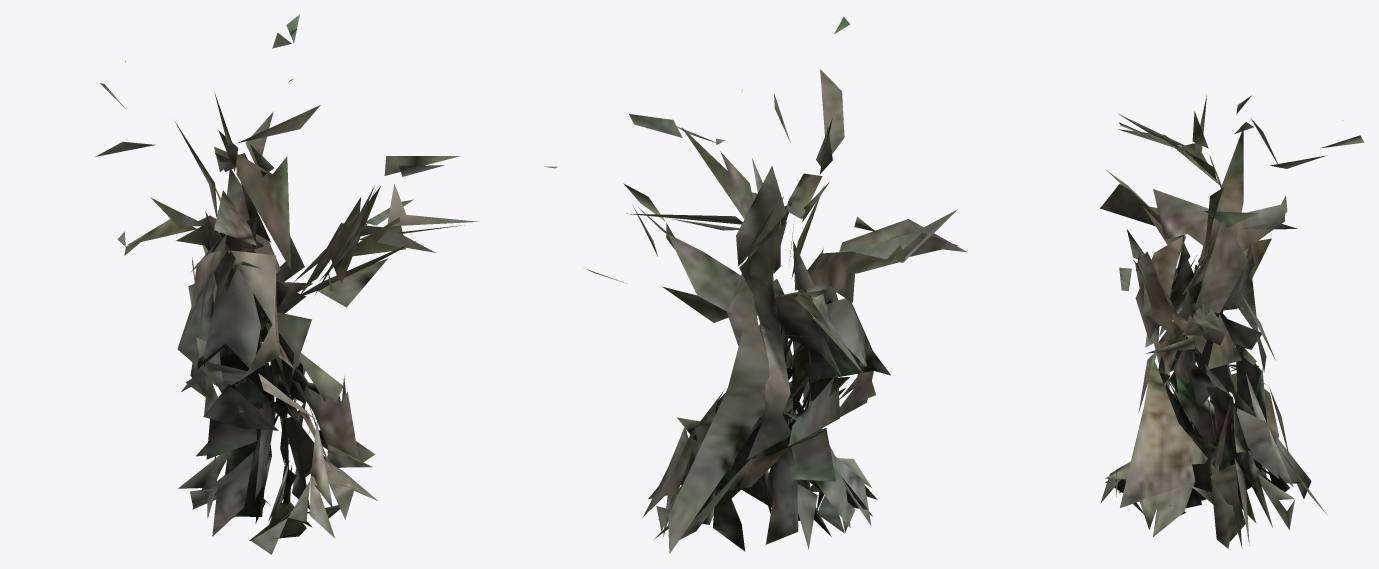
Rendered from serra_olivenbaum_lo.glb.
The picture shows the model from 3 angles, left to right: view 1: azimuth 30°, elevation 25°; view 2: azimuth 150°, elevation 25°; view 3: azimuth 270°, elevation 25°; orthographic projection. The views are drawn at different scales.
Visible parts, largest first — view 1: Prop; view 2: Prop; view 3: Prop.
Boxes of the visible parts, x1=… form: Prop: x1=95, y1=14, x2=479, y2=554; Prop: x1=544, y1=17, x2=967, y2=553; Prop: x1=1100, y1=95, x2=1364, y2=548.
Size of the model in its own units: 0.7672 by 0.92 by 0.6063.
1 material, 1 textured.
